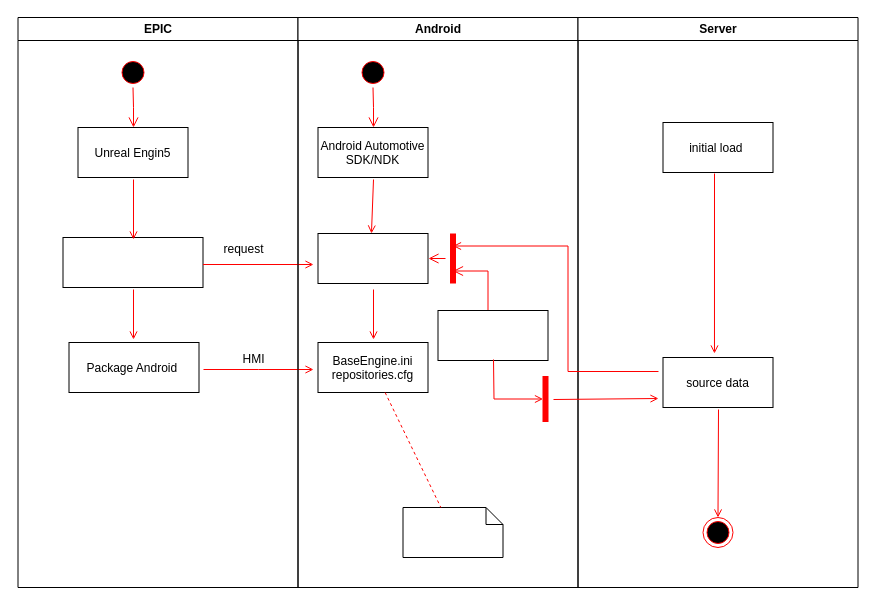
The diagram is 875 pixels wide and 605 high, and some of its shapes have lost their labels. The shapes that lost their labels are listed below. From the top down, each one's centre as x and y in pixels, then its label:
At point (132, 262): "Design Car Configurator".
At point (372, 258): "Bridge(JNI)".
At point (492, 335): "dispatch worker thread".
At point (452, 532): "APK".
